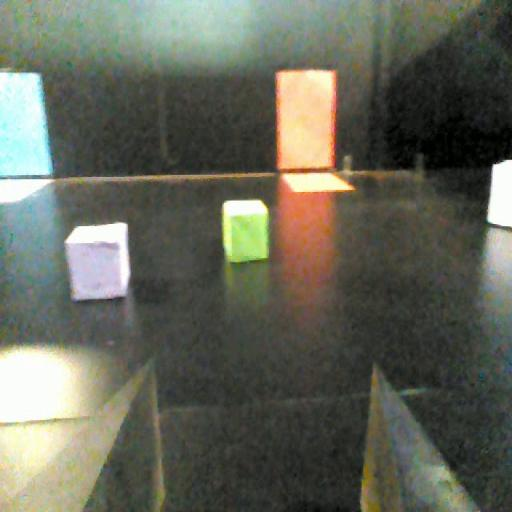cube: (64, 222, 131, 303), (216, 198, 272, 272), (488, 160, 512, 238)
